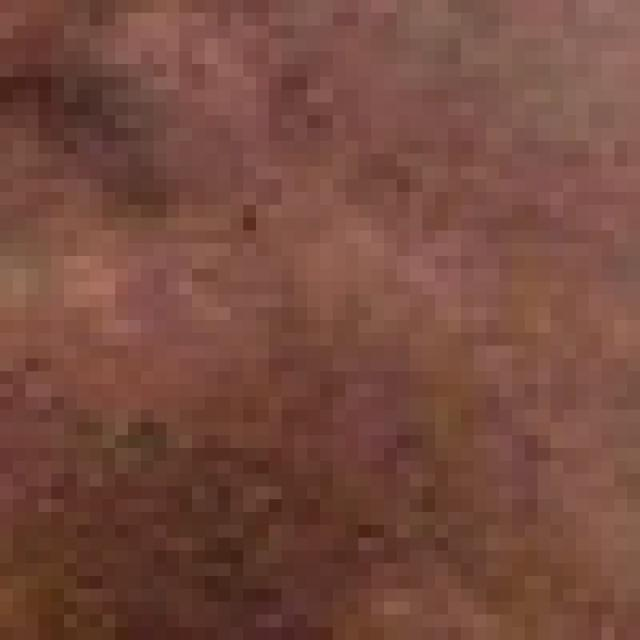fire: (13, 13, 640, 614)
